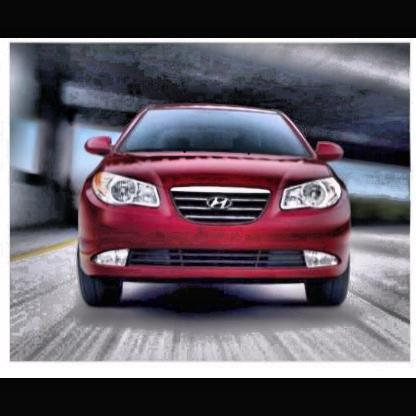Hyundai Elantra Sedan 2007: (78, 102, 351, 310)
